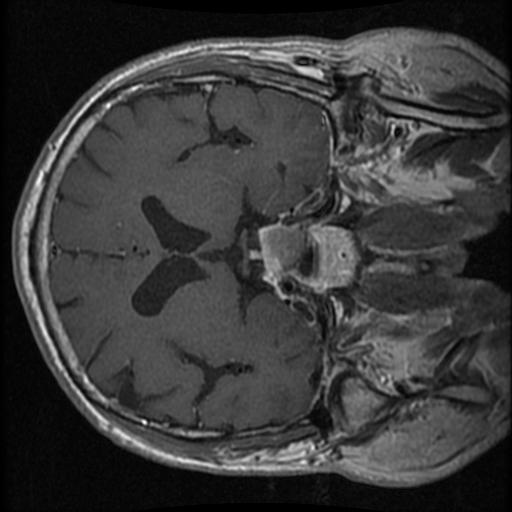pituitary tumour: (249, 223, 305, 282)
